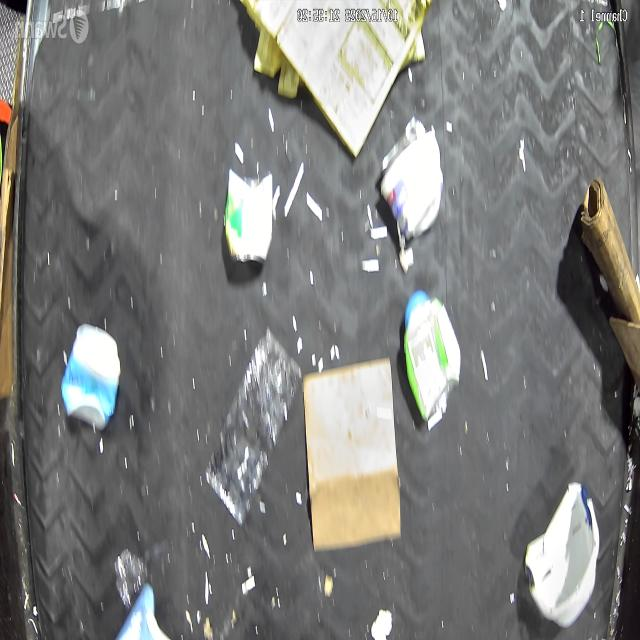can: (380, 117, 442, 243), (225, 167, 273, 267)
